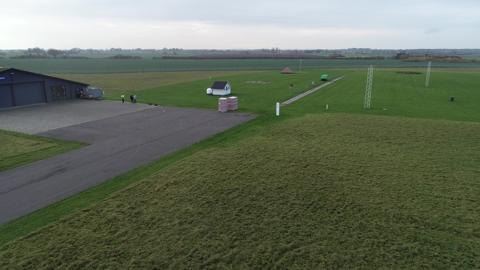RockwoolPallet: (227, 96, 238, 110)
